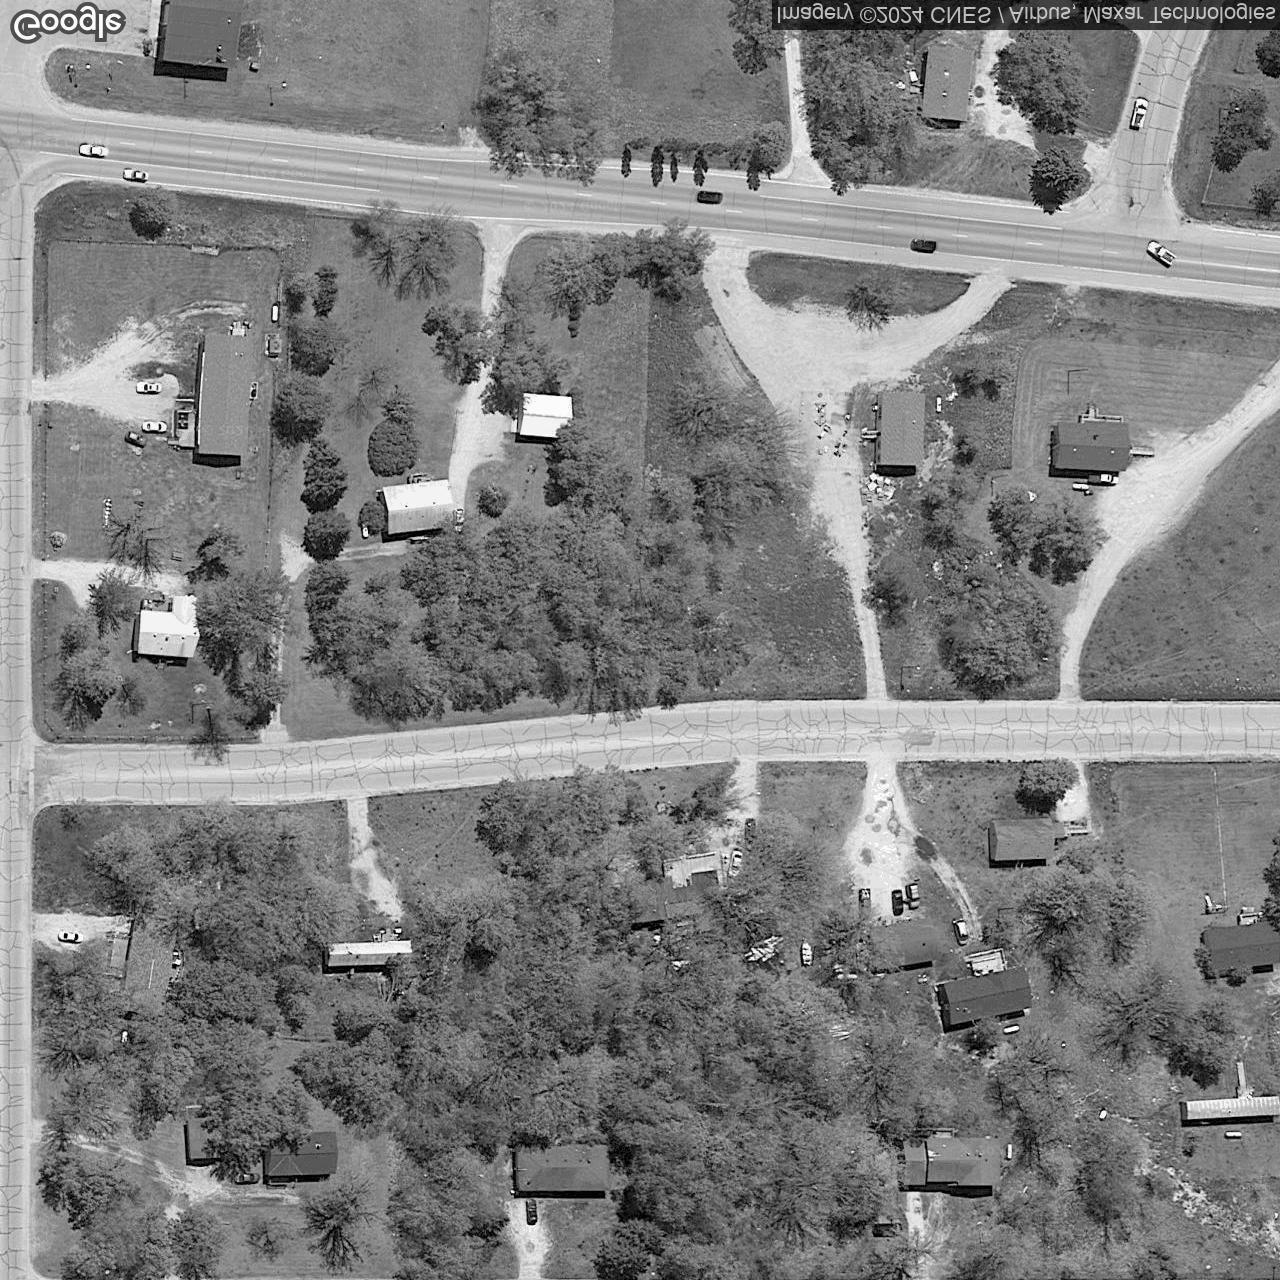Garage: (867, 913, 938, 972), (516, 390, 574, 440), (184, 1115, 223, 1160)
House: (199, 333, 257, 456), (158, 0, 246, 70), (937, 965, 1033, 1026), (620, 869, 721, 925), (123, 907, 182, 1001), (512, 1141, 611, 1193), (899, 1136, 1001, 1186), (1050, 422, 1131, 484), (131, 595, 202, 659), (377, 478, 455, 536), (919, 45, 975, 123), (1201, 917, 1279, 972), (873, 393, 926, 467), (263, 1130, 339, 1177), (989, 817, 1064, 862), (1180, 1095, 1279, 1121)
Propane: (1002, 1023, 1021, 1037), (1224, 1130, 1245, 1142), (268, 304, 280, 325), (1070, 481, 1089, 493), (359, 520, 370, 540), (1005, 1143, 1014, 1164), (935, 395, 944, 415), (121, 1029, 130, 1044)
Trailer: (322, 939, 414, 967)
